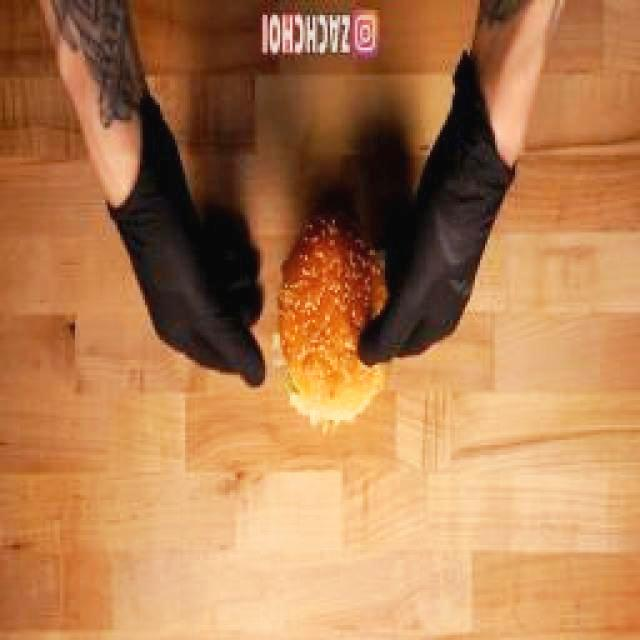burger: (280, 219, 390, 428)
